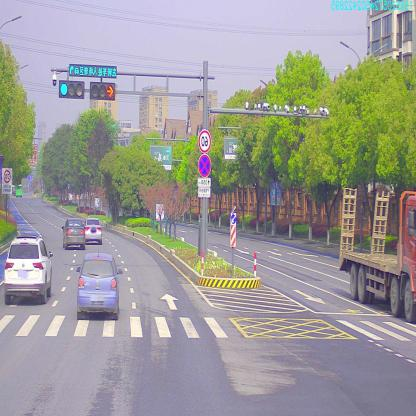traffic-light: (67, 65, 116, 78), (91, 80, 117, 102), (61, 80, 85, 99)
